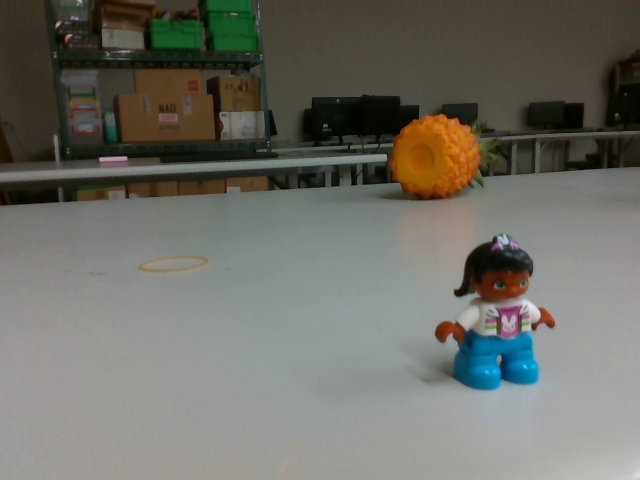people: (438, 234, 560, 396)
pineapple: (388, 114, 501, 197)
